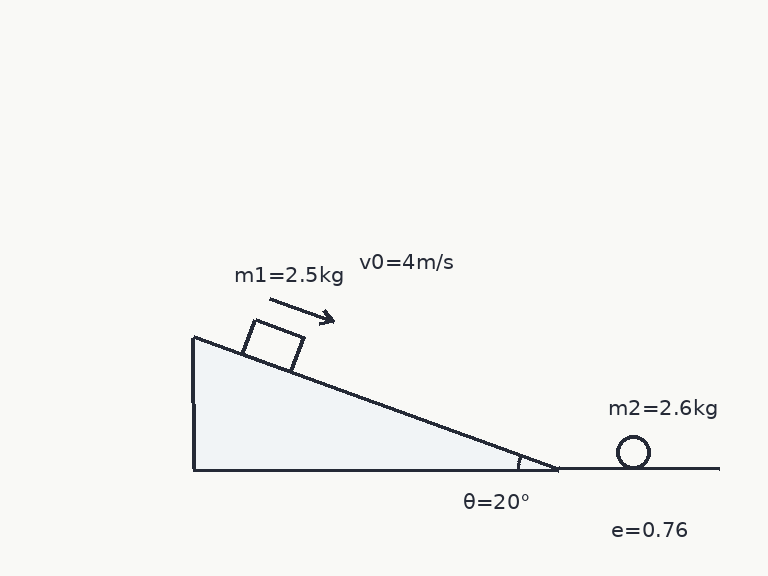ball: (614, 433, 652, 471)
block: (241, 317, 305, 374)
ramp: (191, 334, 560, 471)
